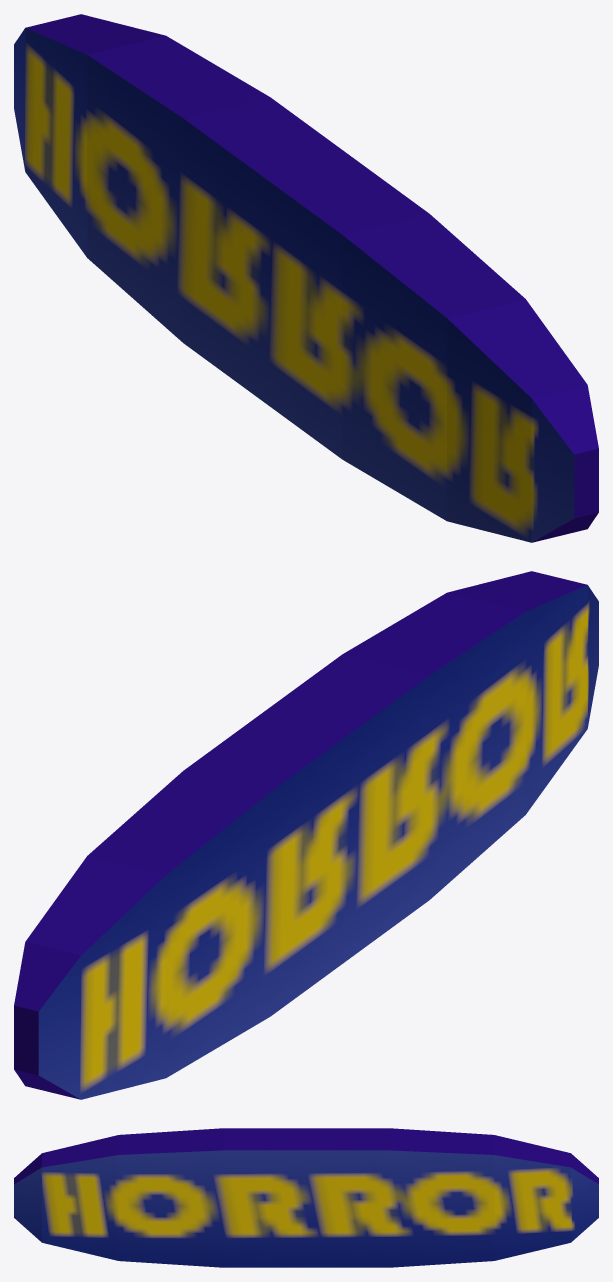
File: Horror sigh.obj
3 renders of one model, top to bottom at view 1: azimuth 30°, elevation 25°; view 2: azimuth 150°, elevation 25°; view 3: azimuth 270°, elevation 25°, orthographic. The views are drawn at different scales.
Visible parts, largest first — view 1: HORROR_Sigh_Cube; view 2: HORROR_Sigh_Cube; view 3: HORROR_Sigh_Cube.
Boxes of the visible parts, x1,y1,x2,y2 form: HORROR_Sigh_Cube: [14, 14, 598, 542]; HORROR_Sigh_Cube: [14, 571, 598, 1099]; HORROR_Sigh_Cube: [14, 1128, 598, 1267].
Bounding box in the file's own units: 0.1795 × 0.4425 × 2.
